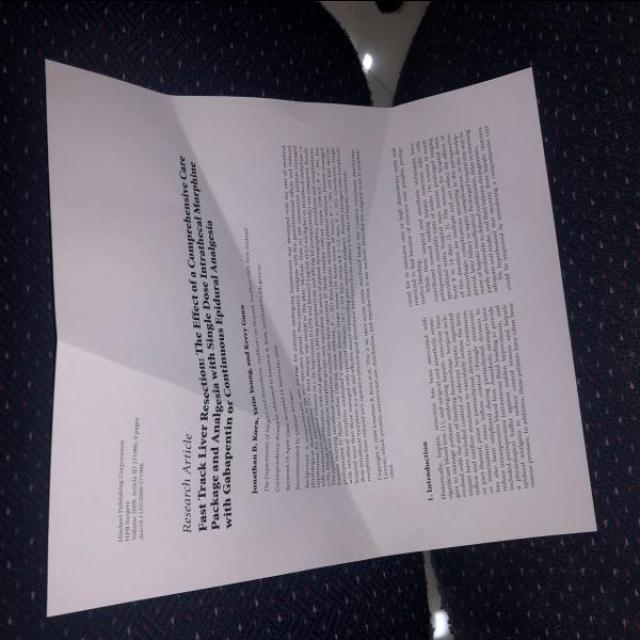kertas: (46, 59, 596, 613)
